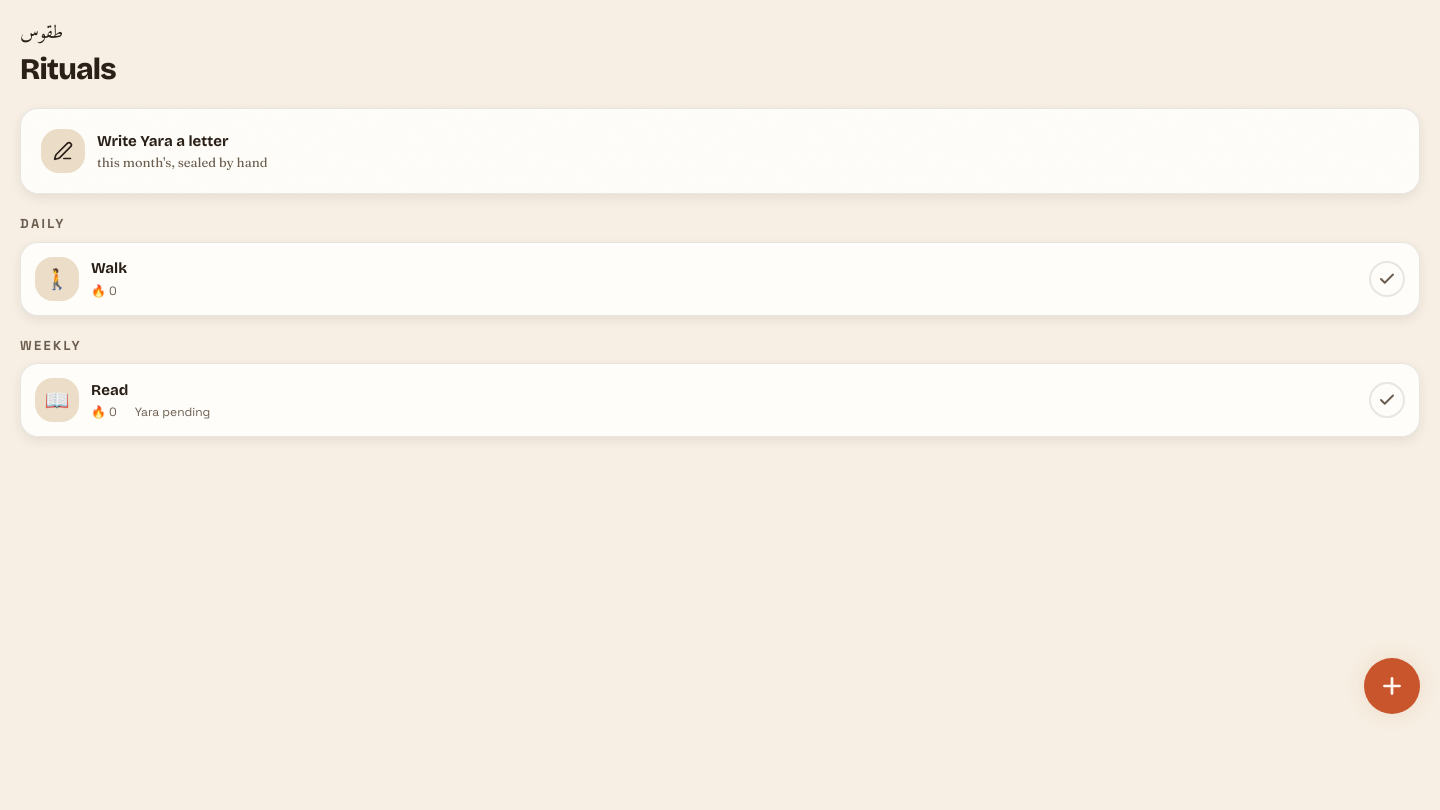
Test: RitualsPage › interaction › opens the create form when the create FAB is clicked
Click the button named "Create ritual" at (1392,686), box top-left (1364, 658), bottom-right (1420, 714)
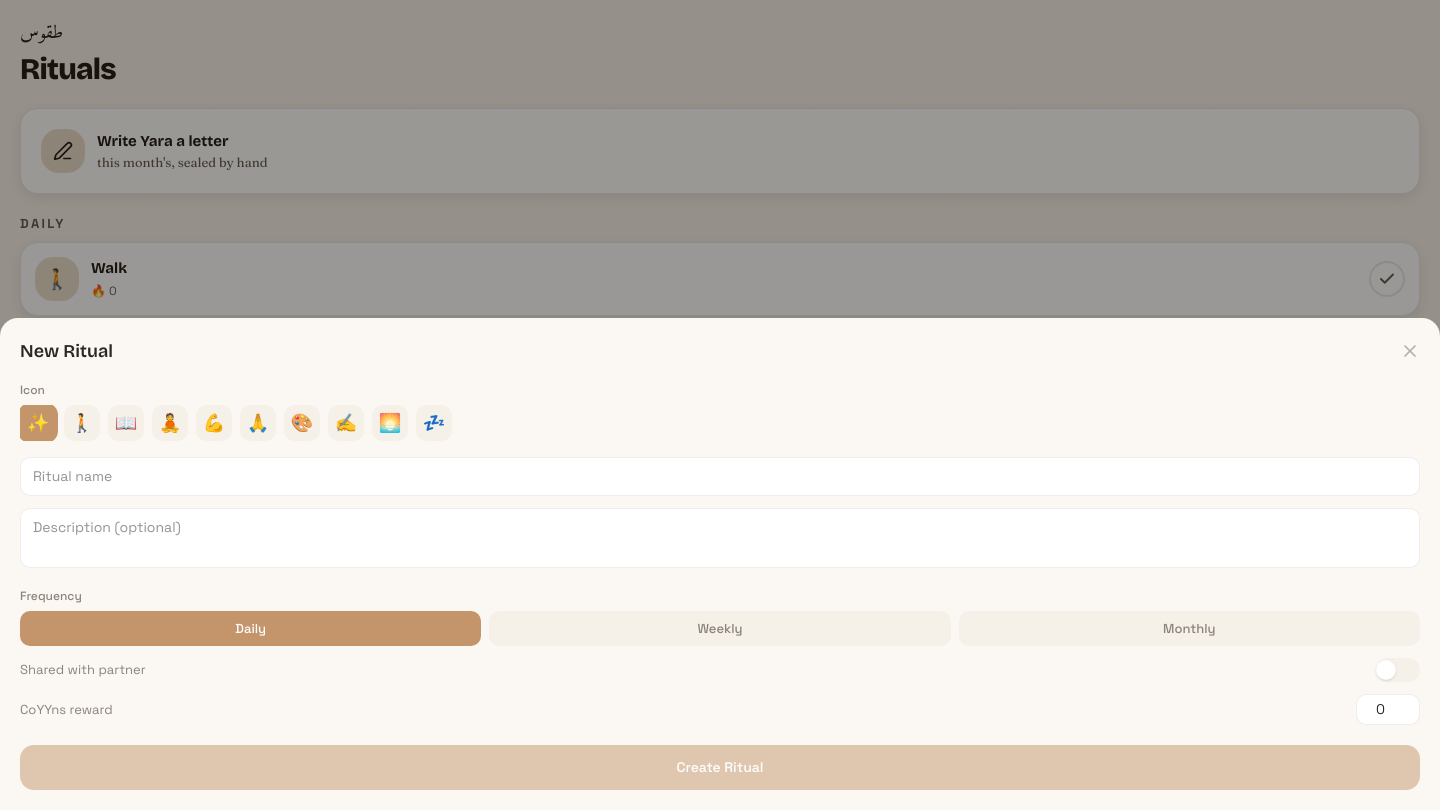
Now the element with test id "ritual-form" is shown
